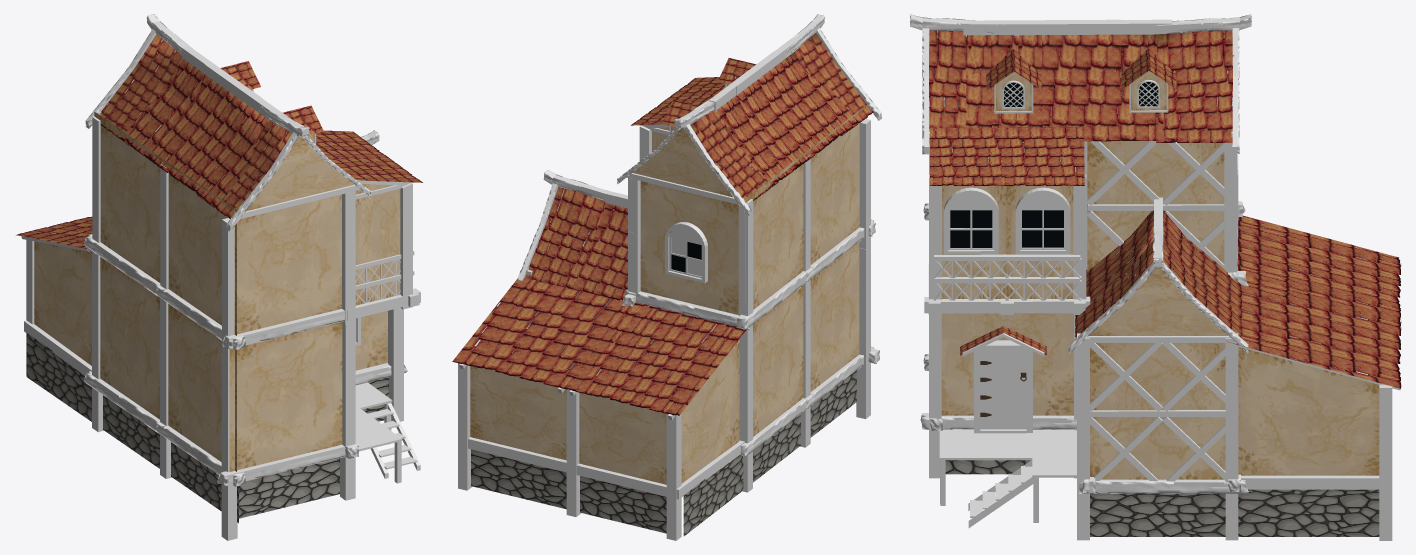
File: house_7.fbx
3 views of the same model, side by side, from view 1: azimuth 30°, elevation 25°; view 2: azimuth 150°, elevation 25°; view 3: azimuth 270°, elevation 25° (orthographic). The views are drawn at different scales.
Visible parts, largest first — view 1: Plane.128, Plane.111, Plane.1652, Plane.142, Plane.144, Cube.140, Plane.112, Plane.143, Plane.122, Plane.141, Cube.133, Plane.1653 (+20 smaller); view 2: Plane.112, Plane.115, Plane.116, Plane.1652, Cube.133, Plane.142, Plane.144, Plane.143, Plane.141, Cube.139, Cube.138, Plane.139 (+20 smaller); view 3: Plane.115, Cube.127, Plane.121, Cube.129, Plane.1653, Plane.122, Cube.139, Plane.112, Cube.133, Plane.381, Cube.145, Plane.136 (+16 smaller).
Part boxes in pixels (bbox=[...]): Plane.128: bbox=[217, 322, 345, 486]; Plane.111: bbox=[222, 194, 344, 349]; Plane.1652: bbox=[144, 63, 281, 207]; Plane.142: bbox=[84, 112, 168, 300]; Plane.144: bbox=[84, 257, 168, 436]; Cube.140: bbox=[197, 104, 370, 231]; Plane.112: bbox=[16, 216, 92, 375]; Plane.143: bbox=[155, 304, 245, 486]; Plane.122: bbox=[327, 156, 422, 320]; Plane.141: bbox=[155, 161, 245, 349]; Cube.133: bbox=[85, 14, 192, 145]; Plane.1653: bbox=[121, 46, 262, 190]; Plane.112: bbox=[558, 304, 746, 499]; Plane.115: bbox=[452, 277, 643, 475]; Plane.116: bbox=[625, 181, 752, 329]; Plane.1652: bbox=[730, 37, 858, 170]; Cube.133: bbox=[617, 99, 778, 216]; Plane.142: bbox=[737, 152, 813, 329]; Plane.144: bbox=[740, 285, 813, 456]; Plane.143: bbox=[803, 242, 873, 408]; Plane.141: bbox=[803, 105, 873, 281]; Cube.139: bbox=[517, 170, 624, 290]; Cube.138: bbox=[572, 191, 635, 303]; Plane.139: bbox=[471, 449, 566, 509]; Plane.115: bbox=[1226, 276, 1401, 489]; Cube.127: bbox=[1079, 343, 1248, 493]; Plane.121: bbox=[996, 127, 1090, 314]; Cube.129: bbox=[1087, 140, 1248, 287]; Plane.1653: bbox=[1014, 19, 1174, 141]; Plane.122: bbox=[924, 127, 1013, 314]; Cube.139: bbox=[1068, 227, 1248, 353]; Plane.112: bbox=[1237, 215, 1401, 374]; Cube.133: bbox=[1156, 14, 1251, 153]; Plane.381: bbox=[941, 313, 1073, 415]; Cube.145: bbox=[939, 429, 1076, 527]; Plane.136: bbox=[1238, 489, 1379, 536].
Size of the model in its own units: 152 by 229 by 228.
Materials: 6 (4 with a texture image).
